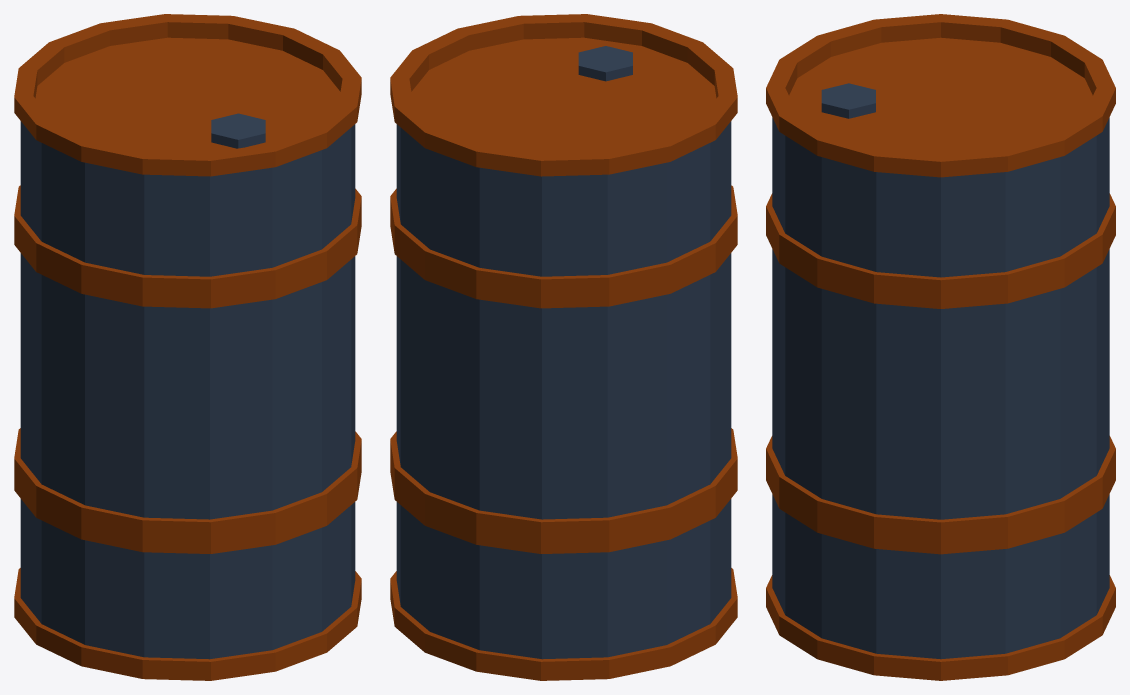
Rendered from barrel.glb.
3 renders of one model, left to right at view 1: azimuth 30°, elevation 25°; view 2: azimuth 150°, elevation 25°; view 3: azimuth 270°, elevation 25°, orthographic.
Visible parts, largest first — view 1: barrel_a001.001; view 2: barrel_a001.001; view 3: barrel_a001.001.
Part boxes in pixels (x1=…): barrel_a001.001: x1=14, y1=14, x2=361, y2=680; barrel_a001.001: x1=390, y1=14, x2=737, y2=680; barrel_a001.001: x1=766, y1=14, x2=1115, y2=680.
Size of the model in its own units: 0.5607 by 0.9177 by 0.5607.
